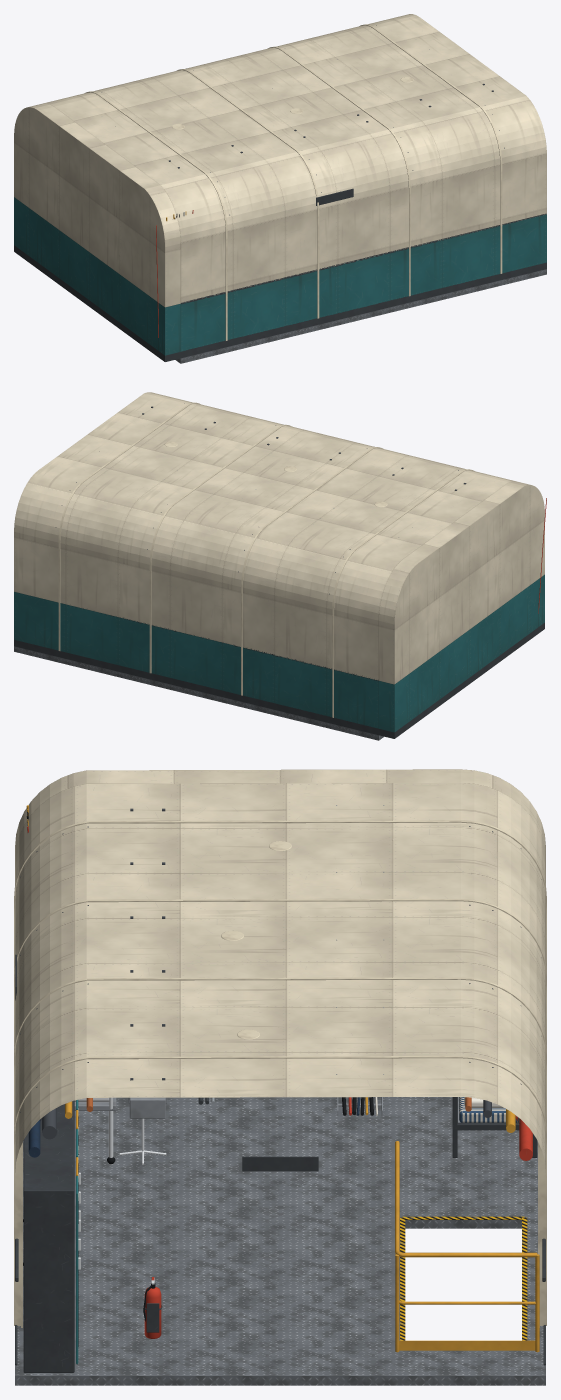
Rendered from FwdQuarters.glb.
3 views of the same model, one above another, from view 1: azimuth 30°, elevation 25°; view 2: azimuth 150°, elevation 25°; view 3: azimuth 270°, elevation 25° (orthographic). The views are drawn at different scales.
Visible parts, largest first — view 1: FwdQuarters_Shell_Body, Bulkhead_Bow_Body, FwdQuarters_Shell_Structure, FwdQuarters_Shell_Floor; view 2: FwdQuarters_Shell_Body, Bulkhead_Bow_Body, FwdQuarters_Shell_Structure, FwdQuarters_Shell_Floor; view 3: FwdQuarters_Shell_Body, FwdQuarters_Shell_Floor, FwdQuarters_Shell_Structure, Lockers_Body.002, Bulkhead_Bow_Body, StairwellRail_Body, BunkBed_Body.001, RoomSign_Control_Room_Body.001, MedBed_Body.001, FireExtinguisher_Body.002, Lockers_Body.001.
Part boxes in pixels (box(x1,y1,x2,y2)): FwdQuarters_Shell_Body: box(43, 14, 546, 358); Bulkhead_Bow_Body: box(14, 103, 180, 361); FwdQuarters_Shell_Structure: box(85, 24, 504, 340); FwdQuarters_Shell_Floor: box(175, 269, 546, 363); FwdQuarters_Shell_Body: box(14, 392, 515, 735); Bulkhead_Bow_Body: box(379, 481, 544, 738); FwdQuarters_Shell_Structure: box(55, 402, 473, 717); FwdQuarters_Shell_Floor: box(14, 646, 383, 740); FwdQuarters_Shell_Body: box(15, 783, 545, 1365); FwdQuarters_Shell_Floor: box(15, 1097, 545, 1385); FwdQuarters_Shell_Structure: box(14, 805, 546, 1327); Lockers_Body.002: box(23, 1133, 74, 1372); Bulkhead_Bow_Body: box(15, 769, 545, 858); StairwellRail_Body: box(395, 1141, 539, 1352); BunkBed_Body.001: box(452, 1097, 537, 1157); RoomSign_Control_Room_Body.001: box(242, 1156, 318, 1171); MedBed_Body.001: box(74, 1097, 166, 1164); FireExtinguisher_Body.002: box(143, 1277, 162, 1338); Lockers_Body.001: box(24, 1100, 74, 1143).
Size of the model in its own units: 7.41 by 3.01 by 5.02.
Materials: 47 (27 with a texture image).
